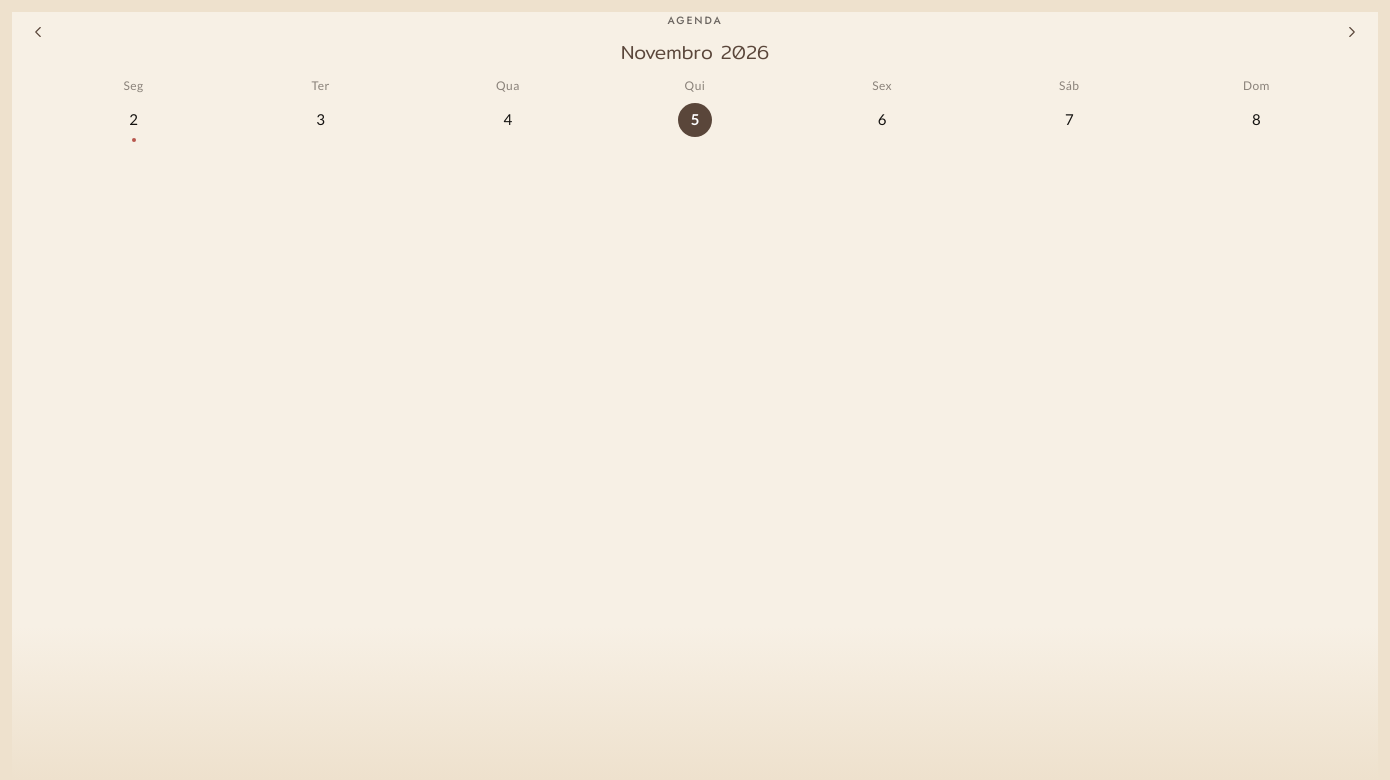
it: HomeWeekCalendar — calendário compacto da Home › as setas trocam de semana e NÃO abrem a agenda
Click the button named "Próxima semana": (1352, 32) x1=1334 y1=14 x2=1370 y2=50
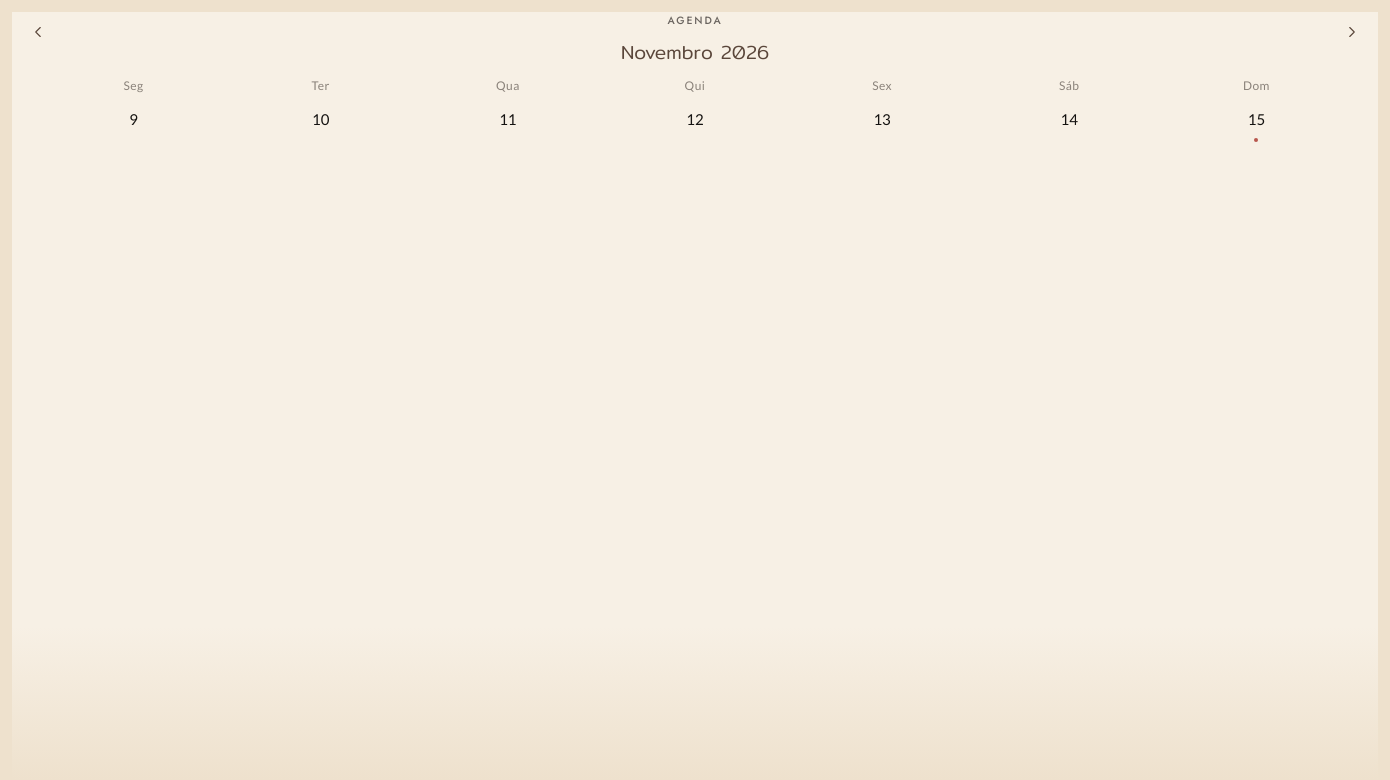
Check: the text with class "home-week-day--today" is gone
Click the button named "Semana anterior": (38, 32) x1=20 y1=14 x2=56 y2=50
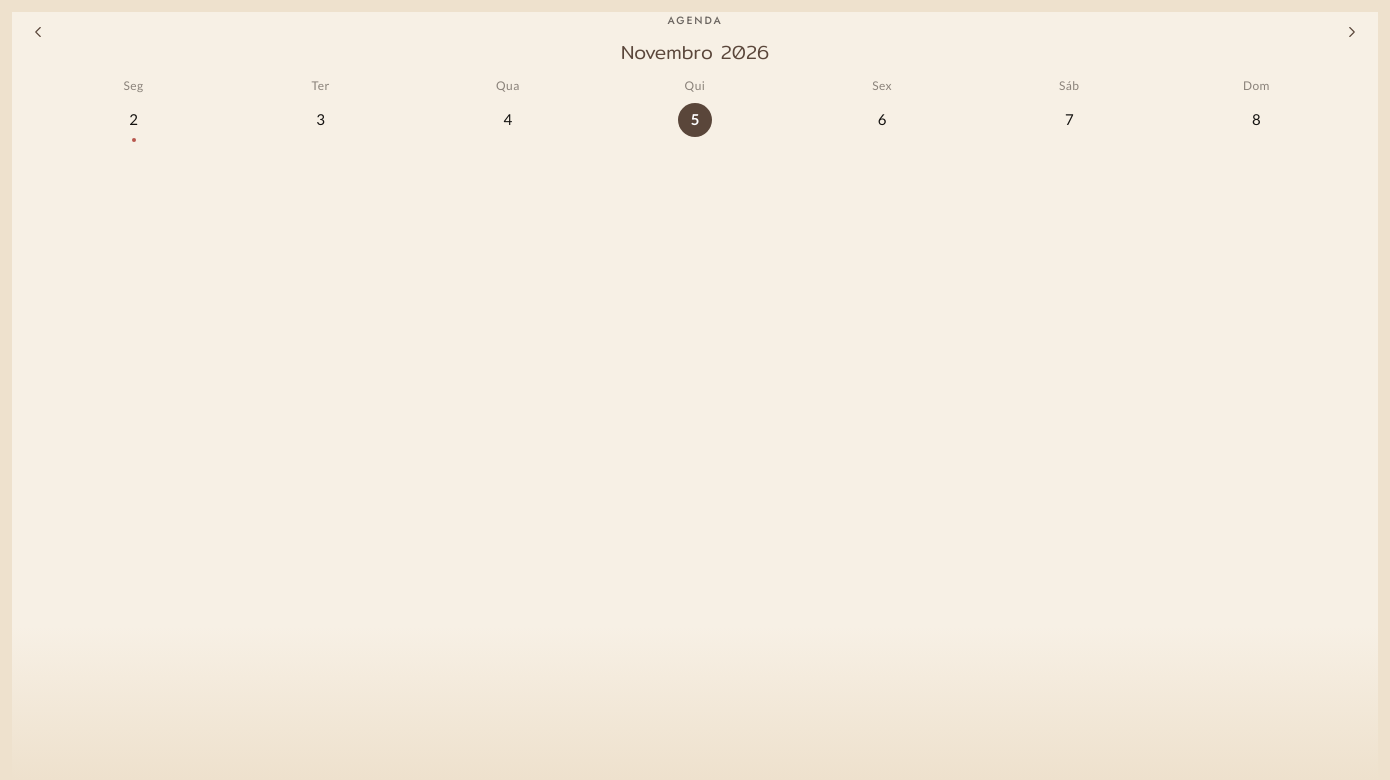
Click the button named "Semana anterior": (38, 32) x1=20 y1=14 x2=56 y2=50
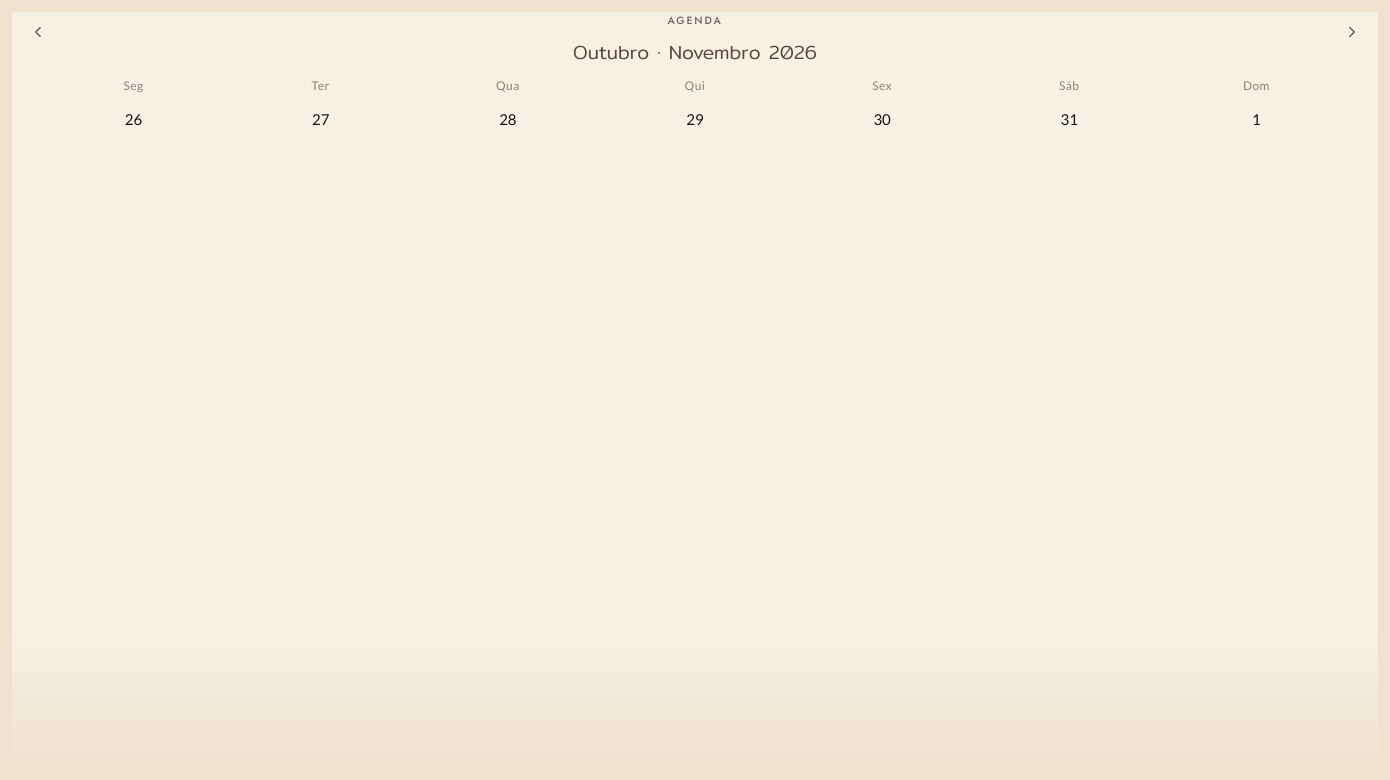
Check: the text "Outubro · Novembro 2026" is shown, box x1=573 y1=37 x2=817 y2=67
